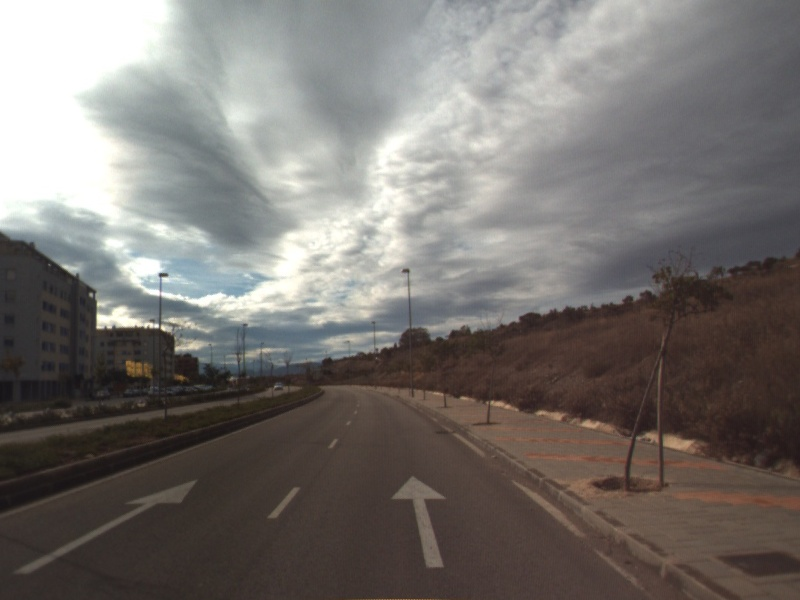STRAIGHT: (10, 477, 201, 576), (388, 473, 449, 570)
